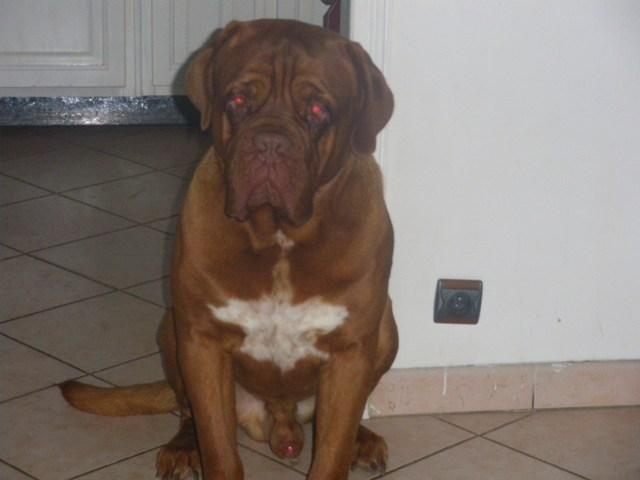dogue_de_bordeaux: (56, 16, 400, 480)
